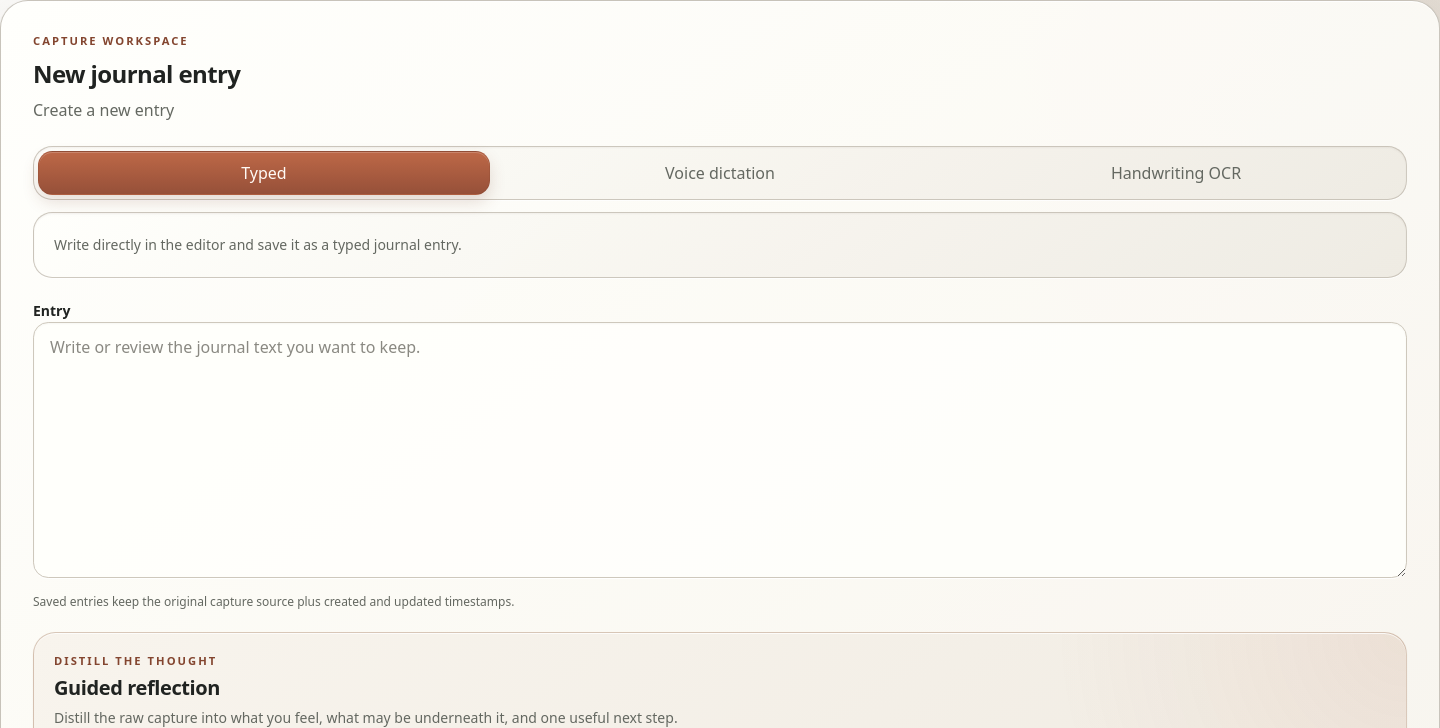
Test: JournalCaptureForm › captures dictated text into the shared editor
Click the button "Voice dictation".
click(720, 173)  # box [494,151,946,195]
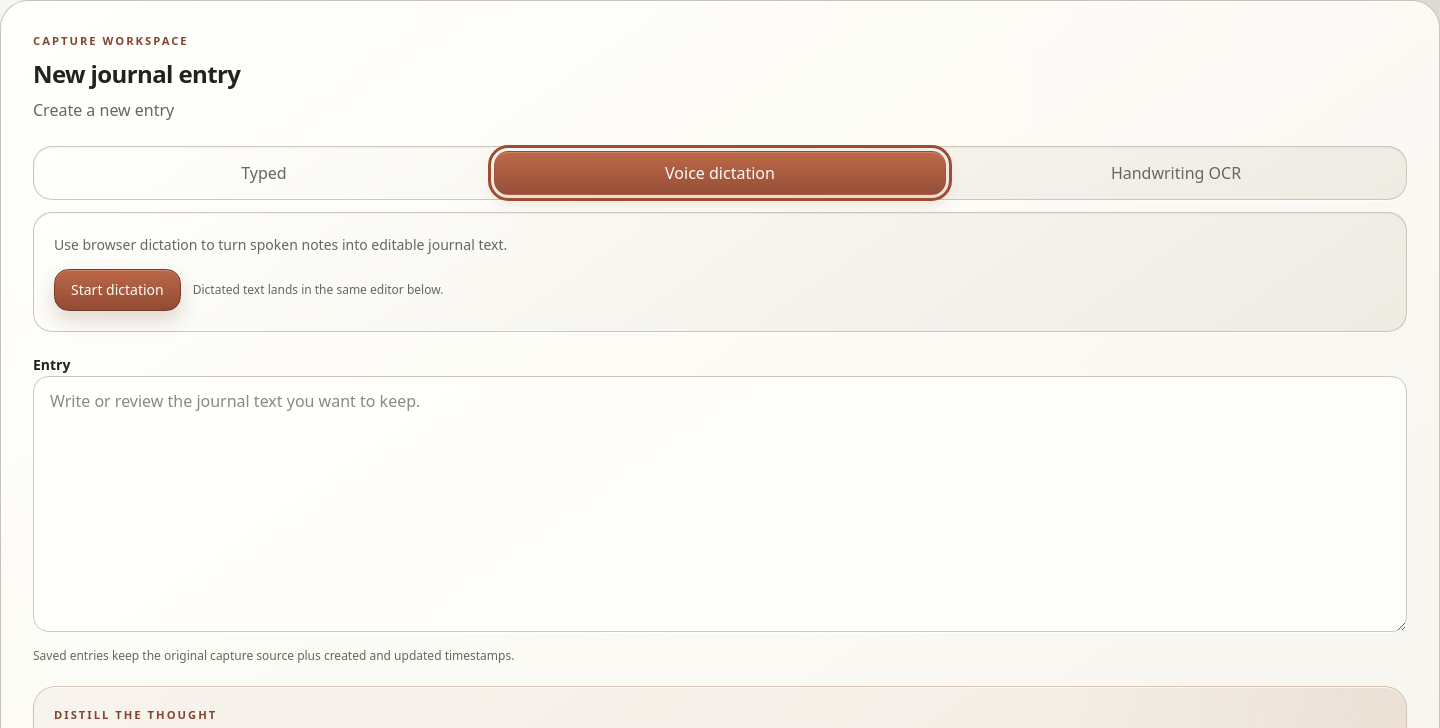
Click the button "Start dictation".
click(117, 290)  # box [54,269,181,311]
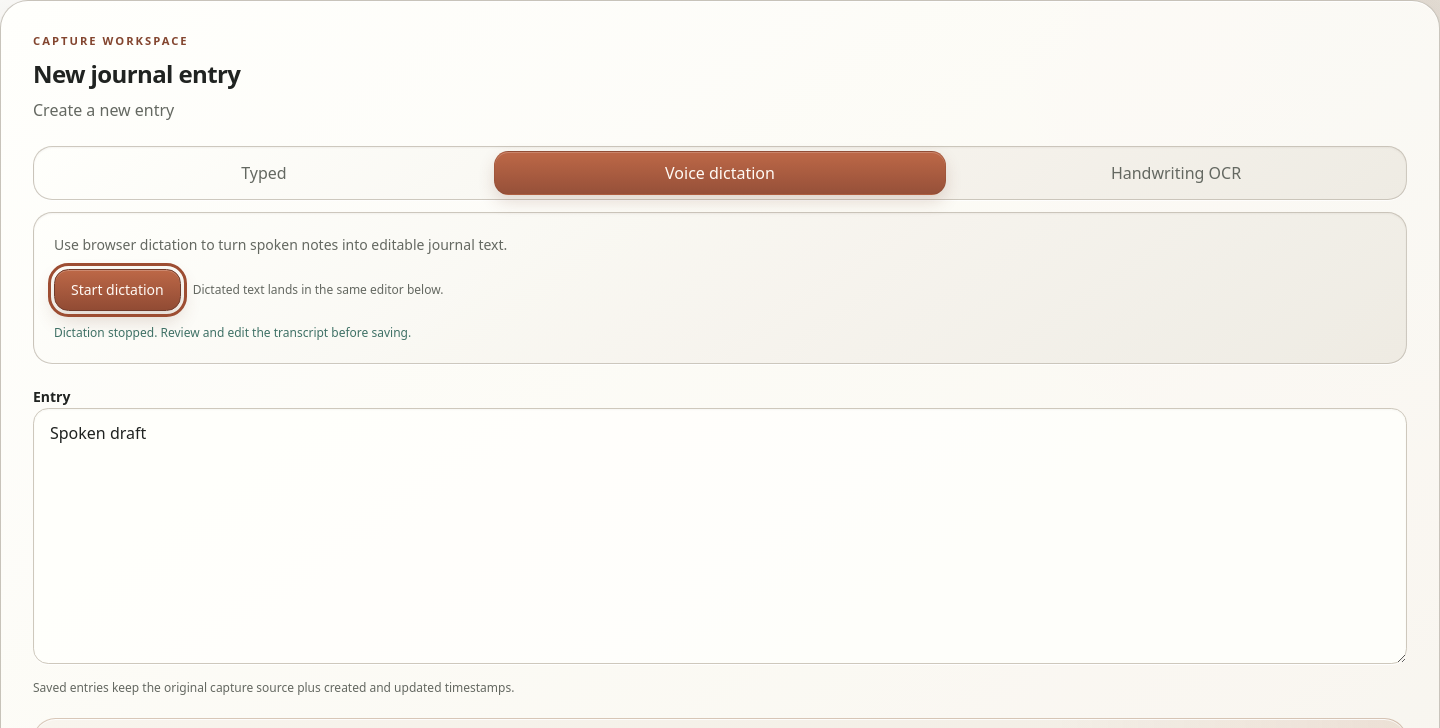
Expected: the element named "source" holds "voice", [33,384,1407,698]
Expected: the text box labelled "Entry" holds "Spoken draft", [33,408,1407,664]
Expected: the text "Dictation stopped. Review and edit the transcript before saving." is shown, [54,324,411,341]
